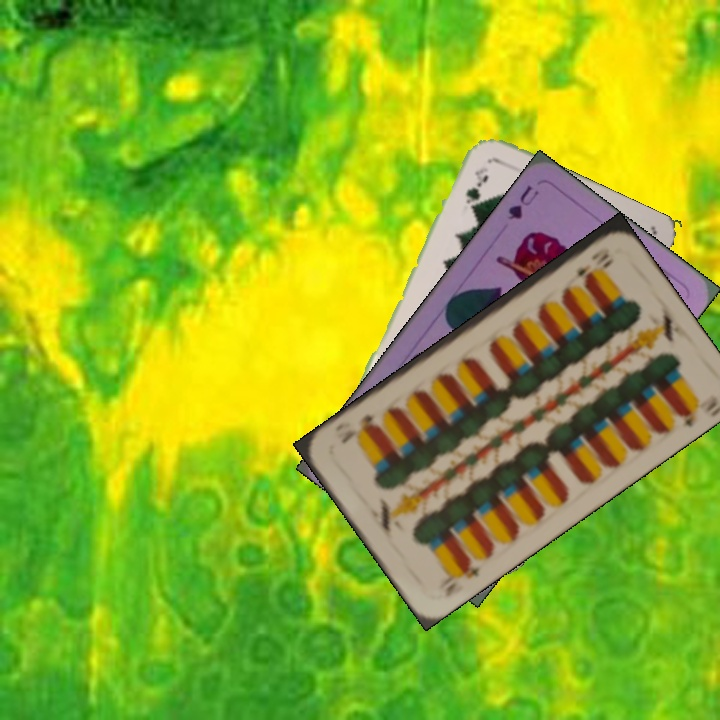E10: (440, 556, 483, 600), (572, 244, 612, 279)
G9: (461, 162, 491, 211)
GU: (504, 181, 541, 223)
